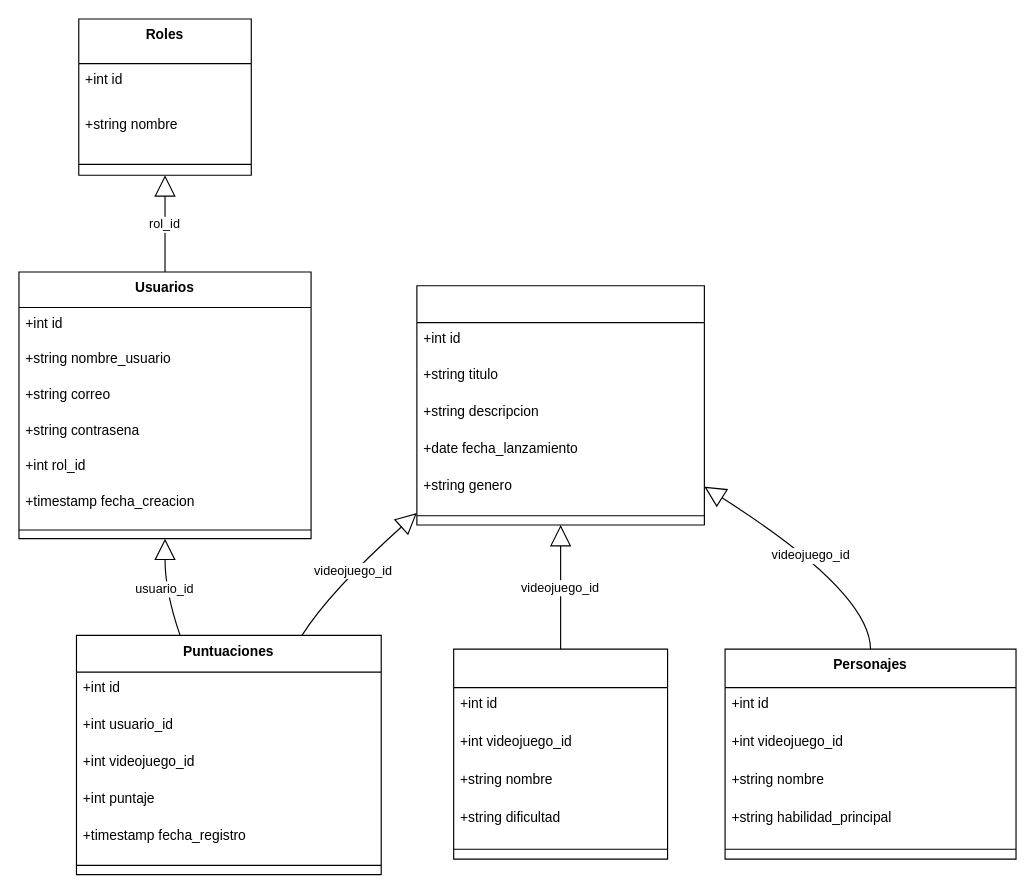
This 1035x894 diagram has some shape labels left out. Here are the shapes that lost their labels. From the top down, the box of each, then its label:
(416, 285, 704, 525): Videojuegos
(453, 648, 668, 859): Niveles
